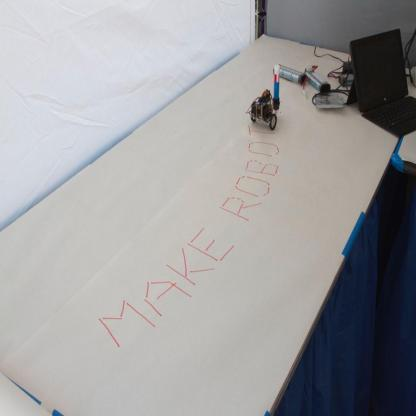board: (349, 28, 416, 138)
